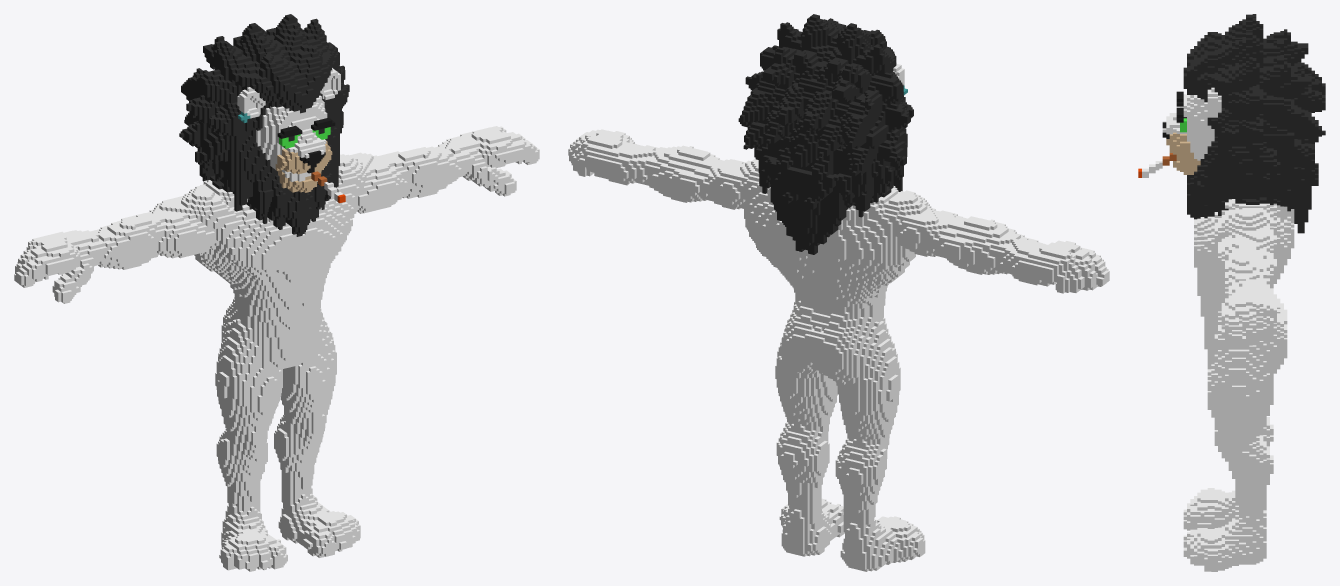
The model's file is 449-BEQ_LakK.fbx.
3 views of the same model, side by side, from view 1: azimuth 30°, elevation 25°; view 2: azimuth 150°, elevation 25°; view 3: azimuth 270°, elevation 25° (orthographic). The views are drawn at different scales.
Visible parts, largest first — view 1: cigarette; view 2: cigarette; view 3: cigarette.
Part boxes in pixels (x1,y1,x2,y2): cigarette: (14,14,539,571); cigarette: (568,14,1109,571); cigarette: (1138,14,1325,571).
Size of the model in its own units: 17.2 by 16.5 by 5.4.
Materials: 5 (5 with a texture image).
